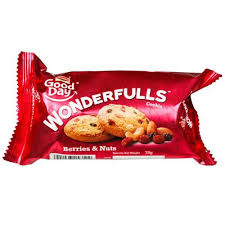gooday-small: (1, 73, 215, 159)
